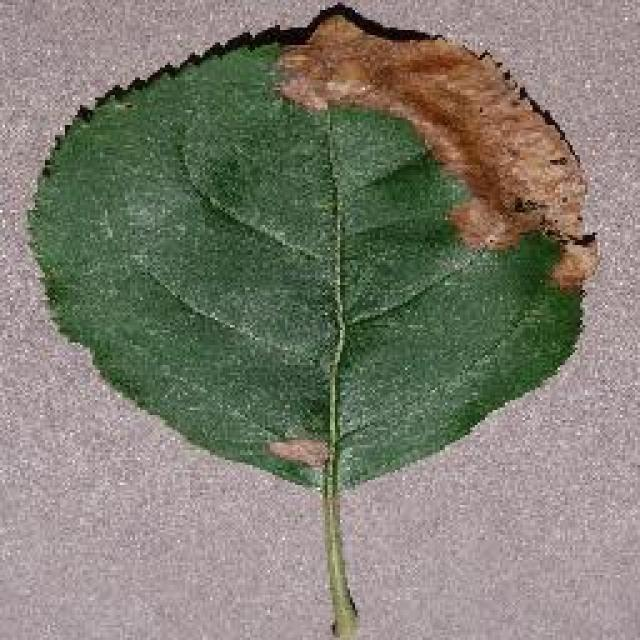black_rot: (278, 8, 604, 296)
